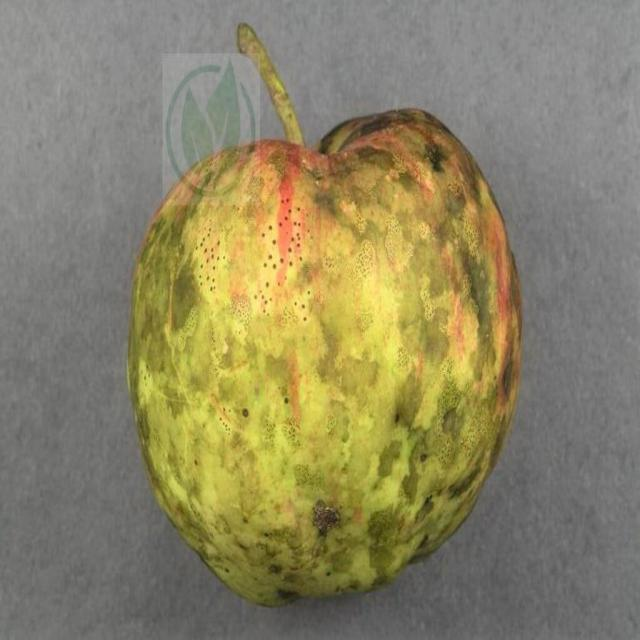Rotten: (122, 114, 532, 606)
